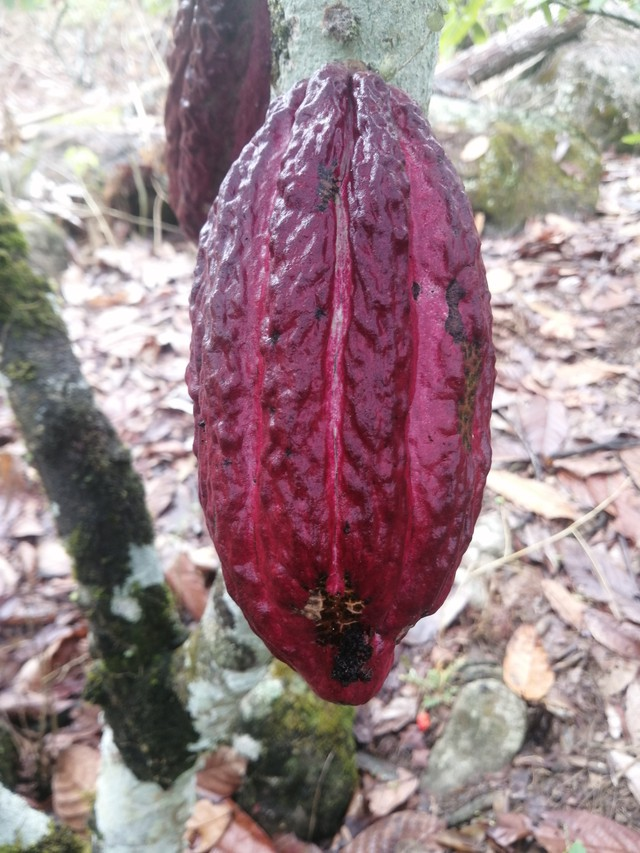carmenta foraseminis: (179, 55, 500, 717)
